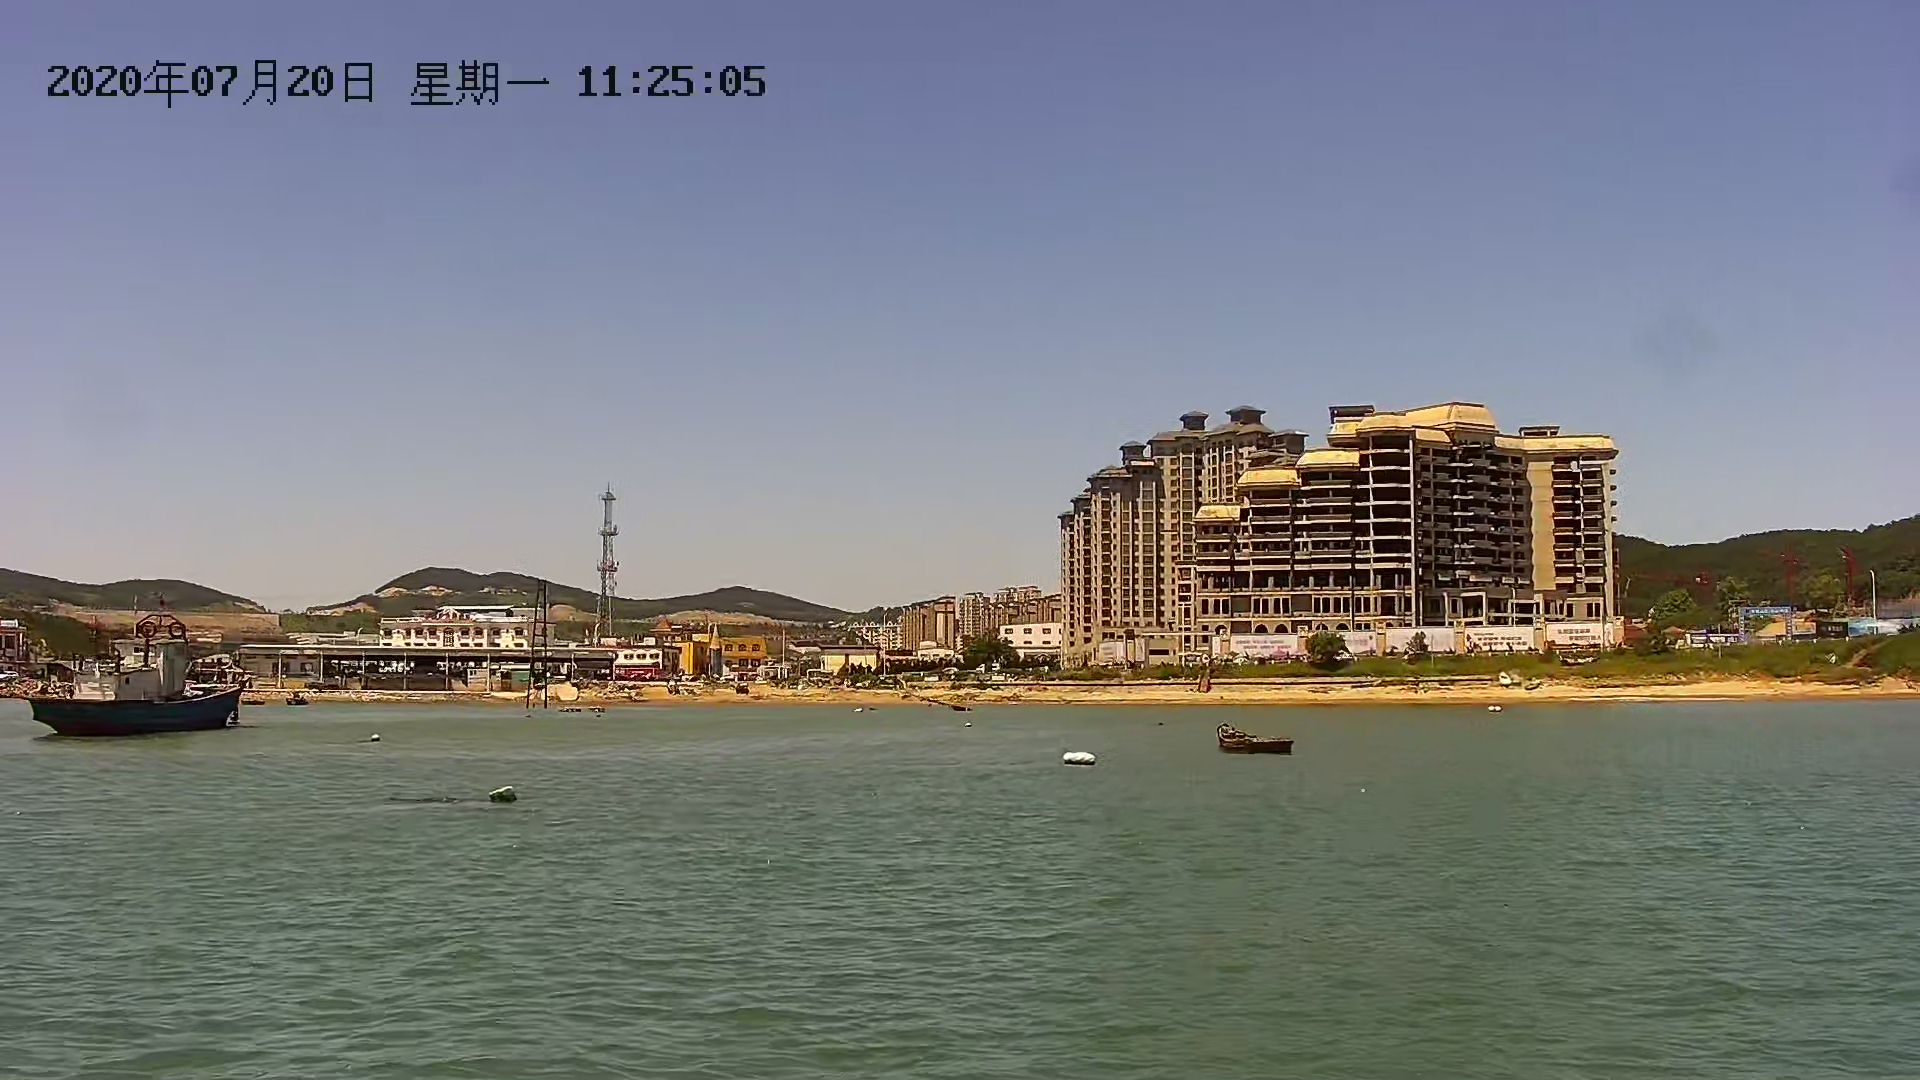ball: (1059, 742, 1104, 767), (485, 786, 525, 812)
boat: (22, 621, 256, 735), (1204, 720, 1303, 754)
